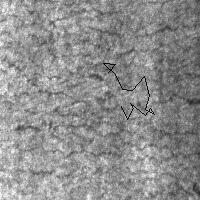crazing: (2, 2, 193, 194), (103, 63, 154, 119)
